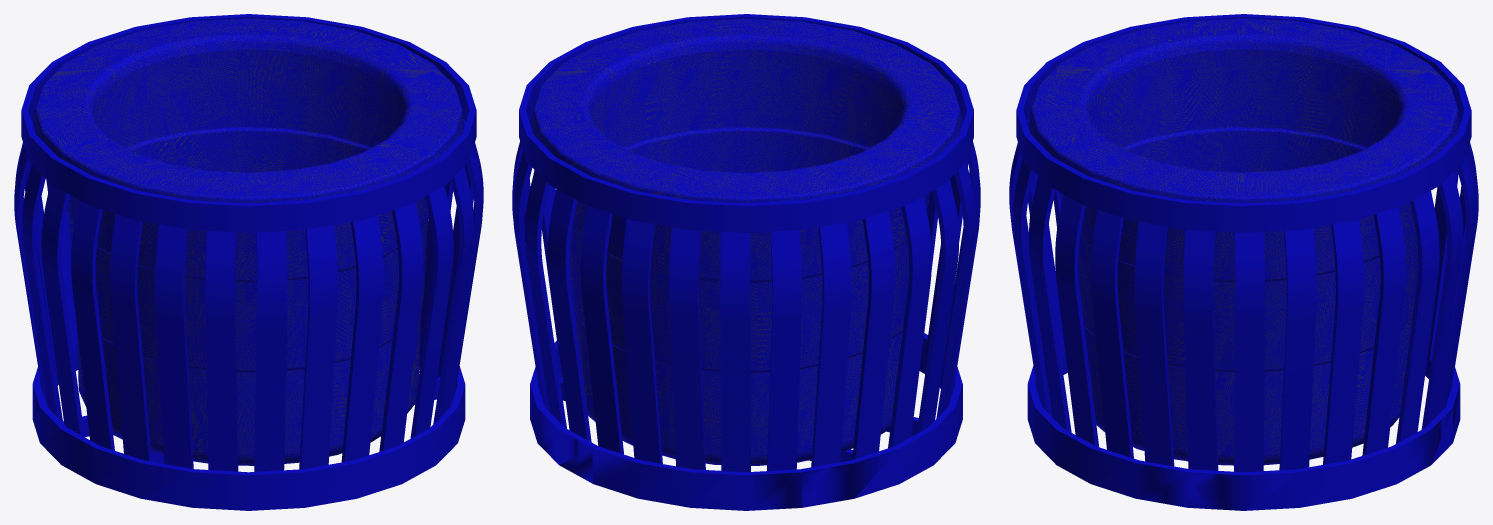
3 views of the same model, side by side, from view 1: azimuth 30°, elevation 25°; view 2: azimuth 150°, elevation 25°; view 3: azimuth 270°, elevation 25° (orthographic).
Visible parts, largest first — view 1: mesh7_mesh7-geometry, mesh1_mesh1-geometry, mesh13_mesh13-geometry, mesh12_mesh12-geometry, mesh20_mesh20-geometry, mesh19_mesh19-geometry, mesh21_mesh21-geometry, mesh18_mesh18-geometry, mesh22_mesh22-geometry, mesh11_mesh11-geometry, mesh41_mesh41-geometry, mesh14_mesh14-geometry (+10 smaller); view 2: mesh7_mesh7-geometry, mesh1_mesh1-geometry, mesh13_mesh13-geometry, mesh12_mesh12-geometry, mesh27_mesh27-geometry, mesh26_mesh26-geometry, mesh28_mesh28-geometry, mesh25_mesh25-geometry, mesh29_mesh29-geometry, mesh24_mesh24-geometry, mesh30_mesh30-geometry, mesh23_mesh23-geometry (+9 smaller); view 3: mesh7_mesh7-geometry, mesh1_mesh1-geometry, mesh12_mesh12-geometry, mesh13_mesh13-geometry, mesh37_mesh37-geometry, mesh35_mesh35-geometry, mesh36_mesh36-geometry, mesh38_mesh38-geometry, mesh34_mesh34-geometry, mesh39_mesh39-geometry, mesh33_mesh33-geometry, mesh40_mesh40-geometry (+9 smaller).
Part boxes in pixels (x1=…): mesh7_mesh7-geometry: x1=67, y1=49, x2=429, y2=465; mesh1_mesh1-geometry: x1=33, y1=18, x2=464, y2=203; mesh13_mesh13-geometry: x1=32, y1=350, x2=465, y2=510; mesh12_mesh12-geometry: x1=21, y1=14, x2=476, y2=232; mesh20_mesh20-geometry: x1=254, y1=231, x2=287, y2=471; mesh19_mesh19-geometry: x1=205, y1=230, x2=238, y2=471; mesh21_mesh21-geometry: x1=155, y1=224, x2=193, y2=468; mesh18_mesh18-geometry: x1=299, y1=225, x2=337, y2=469; mesh22_mesh22-geometry: x1=109, y1=214, x2=151, y2=461; mesh11_mesh11-geometry: x1=341, y1=215, x2=383, y2=462; mesh41_mesh41-geometry: x1=71, y1=200, x2=114, y2=450; mesh14_mesh14-geometry: x1=379, y1=202, x2=423, y2=451; mesh7_mesh7-geometry: x1=569, y1=49, x2=929, y2=465; mesh1_mesh1-geometry: x1=531, y1=18, x2=962, y2=203; mesh13_mesh13-geometry: x1=530, y1=333, x2=962, y2=510; mesh12_mesh12-geometry: x1=519, y1=14, x2=973, y2=232; mesh27_mesh27-geometry: x1=767, y1=230, x2=801, y2=471; mesh26_mesh26-geometry: x1=720, y1=231, x2=750, y2=472; mesh28_mesh28-geometry: x1=669, y1=227, x2=705, y2=469; mesh25_mesh25-geometry: x1=811, y1=222, x2=851, y2=467; mesh29_mesh29-geometry: x1=622, y1=218, x2=662, y2=463; mesh24_mesh24-geometry: x1=852, y1=211, x2=895, y2=459; mesh30_mesh30-geometry: x1=580, y1=205, x2=623, y2=454; mesh23_mesh23-geometry: x1=888, y1=196, x2=931, y2=448; mesh7_mesh7-geometry: x1=1060, y1=49, x2=1418, y2=465; mesh1_mesh1-geometry: x1=1028, y1=18, x2=1459, y2=203; mesh12_mesh12-geometry: x1=1016, y1=14, x2=1471, y2=232; mesh13_mesh13-geometry: x1=1027, y1=355, x2=1460, y2=510; mesh37_mesh37-geometry: x1=1183, y1=230, x2=1218, y2=470; mesh35_mesh35-geometry: x1=1279, y1=228, x2=1316, y2=470; mesh36_mesh36-geometry: x1=1234, y1=232, x2=1264, y2=472; mesh38_mesh38-geometry: x1=1134, y1=222, x2=1174, y2=466; mesh34_mesh34-geometry: x1=1323, y1=220, x2=1364, y2=464; mesh39_mesh39-geometry: x1=1091, y1=209, x2=1133, y2=458; mesh33_mesh33-geometry: x1=1362, y1=207, x2=1405, y2=455; mesh40_mesh40-geometry: x1=1055, y1=194, x2=1098, y2=446.
Size of the model in its own units: 0.6241 by 0.4701 by 0.6241.
